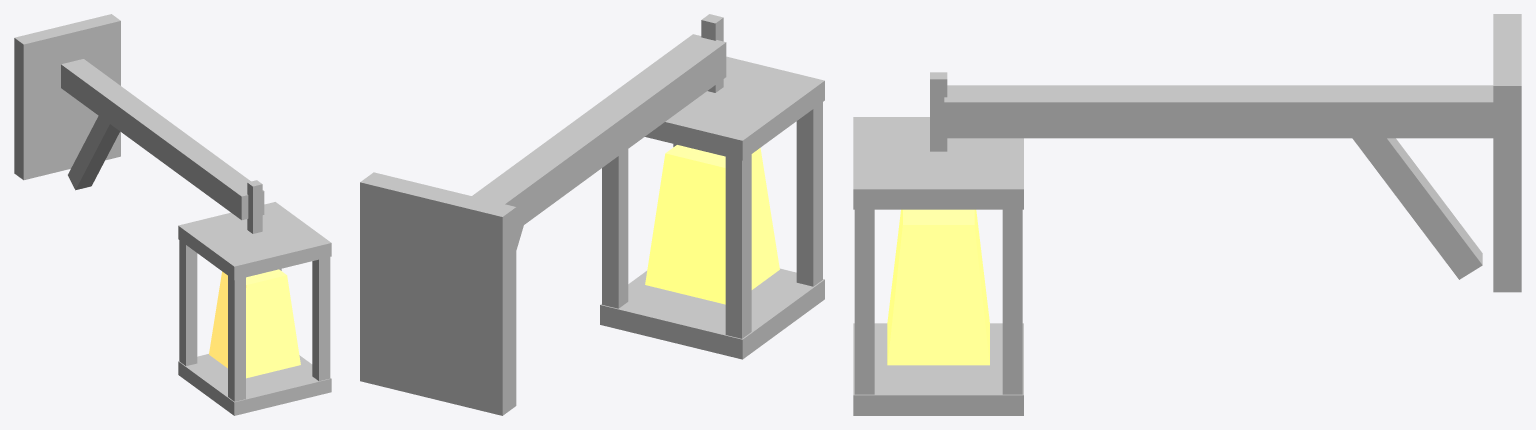
File: wa_lamp.glb
3 views of the same model, side by side, from view 1: azimuth 30°, elevation 25°; view 2: azimuth 150°, elevation 25°; view 3: azimuth 270°, elevation 25° (orthographic). The views are drawn at different scales.
Parts seen in each view (by area): view 1: wa_lamp; view 2: wa_lamp; view 3: wa_lamp.
Part boxes in pixels (x1,y1,x2,y2): wa_lamp: (14, 14, 331, 415); wa_lamp: (360, 14, 824, 415); wa_lamp: (853, 14, 1521, 415).
Bounding box in the file's own units: 0.3 × 0.64 × 1.17.
